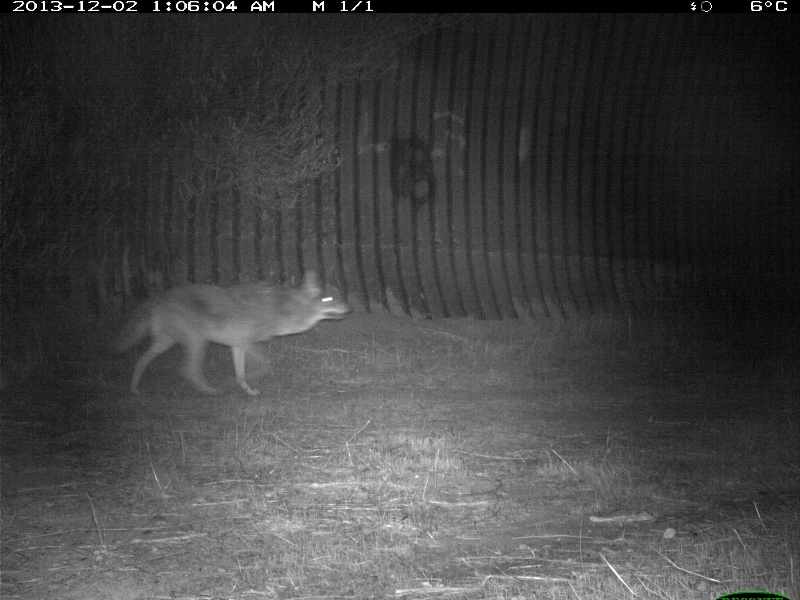coyote: (112, 274, 347, 396)
